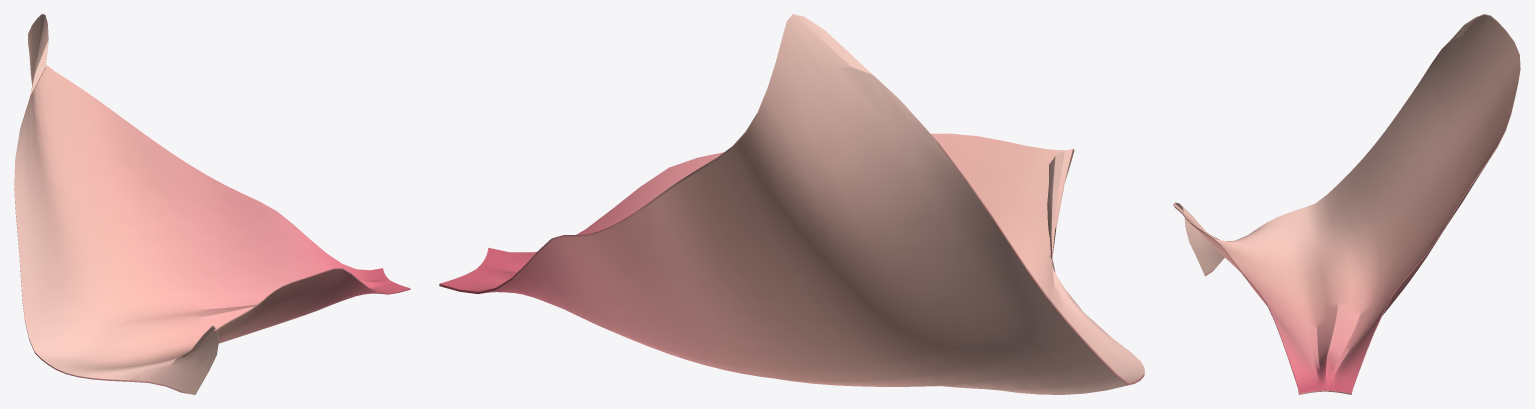
Rendered from papri10.glb.
The picture shows the model from 3 angles, left to right: view 1: azimuth 30°, elevation 25°; view 2: azimuth 150°, elevation 25°; view 3: azimuth 270°, elevation 25°; orthographic projection. The views are drawn at different scales.
Parts seen in each view (by area): view 1: Papri_10; view 2: Papri_10; view 3: Papri_10.
Boxes of the visible parts, x1=… form: Papri_10: x1=14, y1=14, x2=410, y2=394; Papri_10: x1=439, y1=14, x2=1144, y2=394; Papri_10: x1=1173, y1=14, x2=1520, y2=394.
Bounding box in the file's own units: 1.24 × 0.8939 × 1.06.
Materials: 1 (1 with a texture image).
